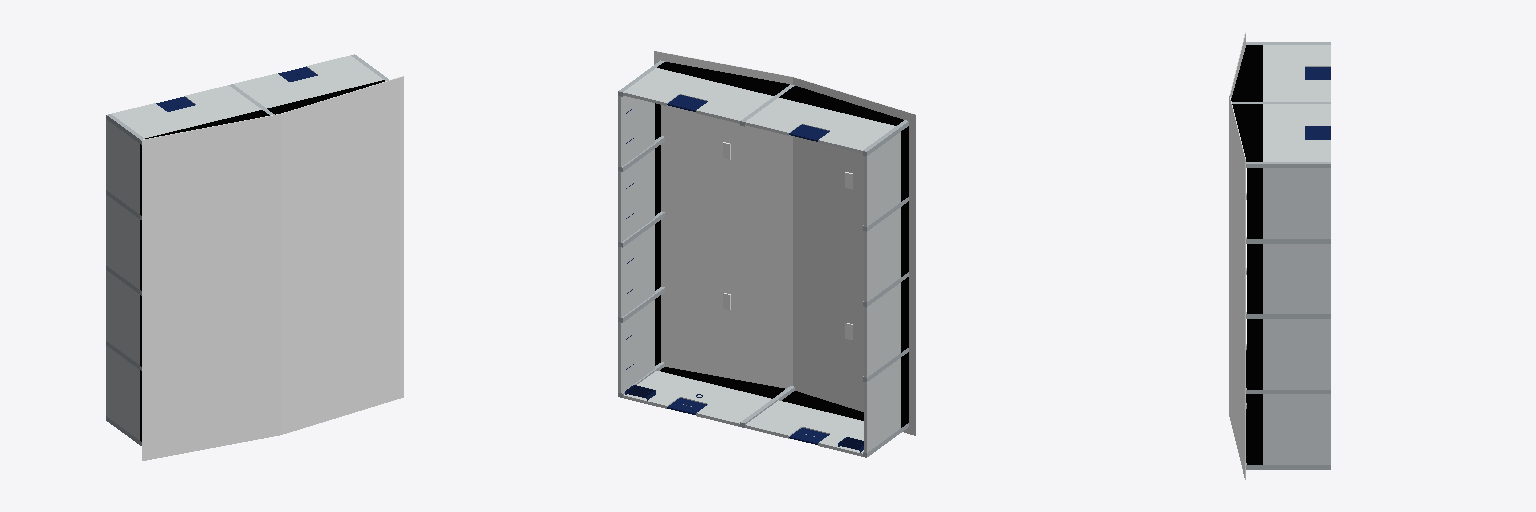
The picture shows the model from 3 angles: view 1: azimuth 30°, elevation 25°; view 2: azimuth 150°, elevation 25°; view 3: azimuth 270°, elevation 25°; orthographic projection.
Parts seen in each view (by area): view 1: SC; view 2: SC; view 3: SC.
Boxes of the visible parts, <box> form: SC: <box>106,54,403,460</box>; SC: <box>618,51,915,457</box>; SC: <box>1229,32,1330,479</box>.
Bounding box in the file's own units: 35.82 × 42 × 12.